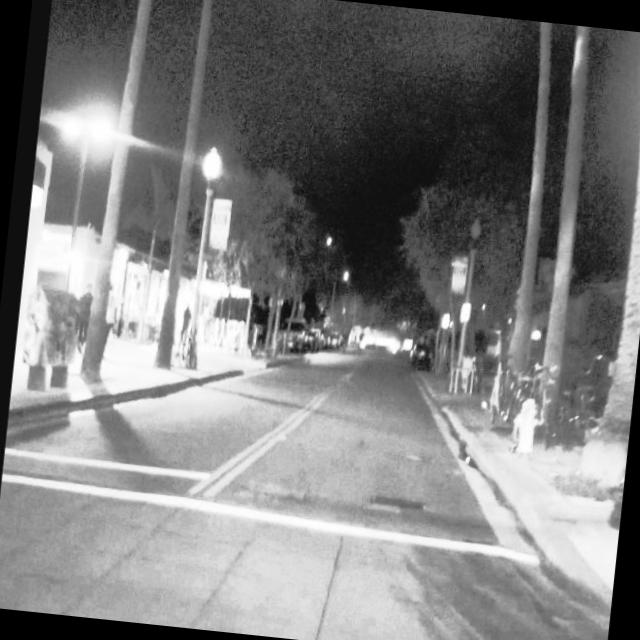Tree: (558, 28, 640, 511), (74, 0, 158, 387)
